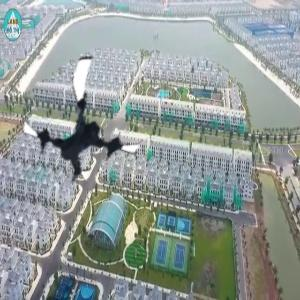drone: (20, 56, 153, 189)
